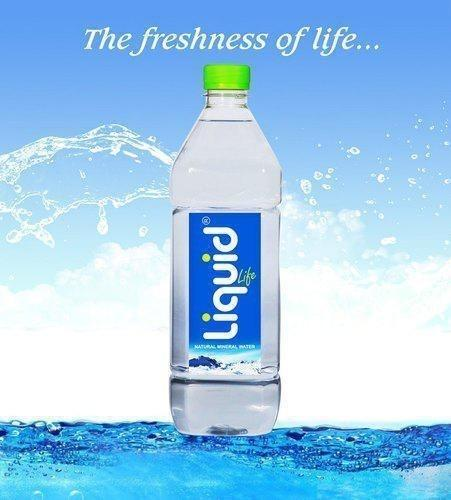bottle-plastic: (166, 59, 285, 439)
